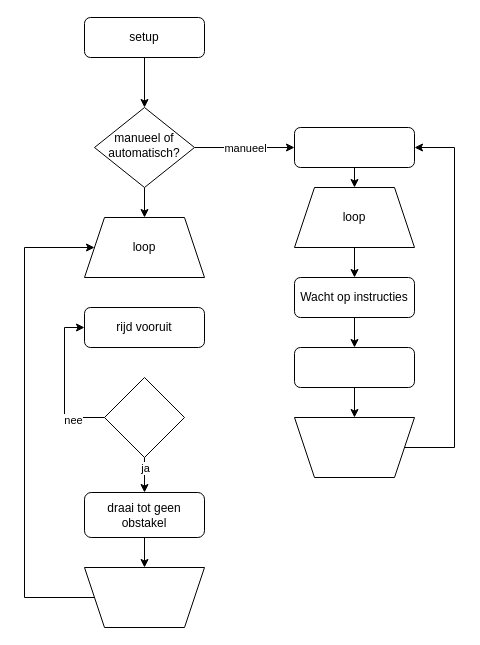
The diagram is 480 pixels wide and 645 high, and some of its shapes have lost their labels. Each missing label, with the centre of its shape:
obstakel?: (x=144, y=417)
verbind met NodeRED: (x=354, y=147)
verwerk instructies en rijd: (x=354, y=367)
